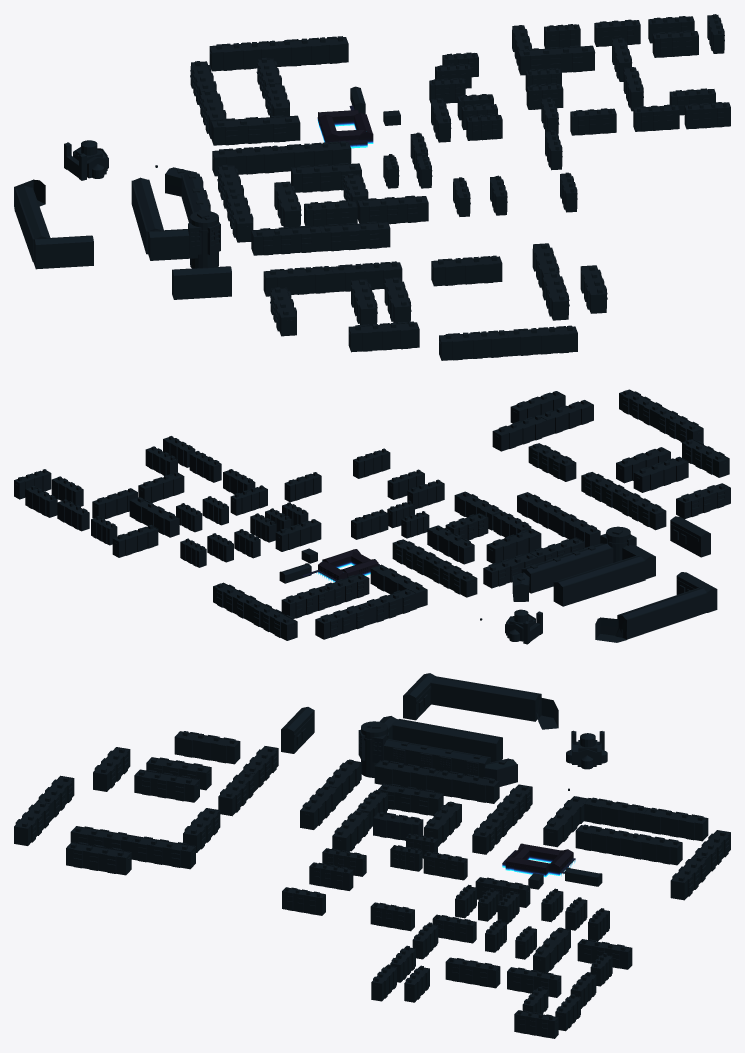
The model's file is mapa-final-test.glb.
3 renders of one model, top to bottom at view 1: azimuth 30°, elevation 25°; view 2: azimuth 150°, elevation 25°; view 3: azimuth 270°, elevation 25°, orthographic. The views are drawn at different scales.
Visible parts, largest first — view 1: Zgrade; view 2: Zgrade; view 3: Zgrade.
Boxes of the visible parts, bbox=[...] form: Zgrade: bbox=[14, 14, 730, 360]; Zgrade: bbox=[14, 389, 730, 644]; Zgrade: bbox=[14, 673, 730, 1038].
Size of what is drawn, in the model's own units: 881 by 56.27 by 780.
Materials: 76 (1 with a texture image).
